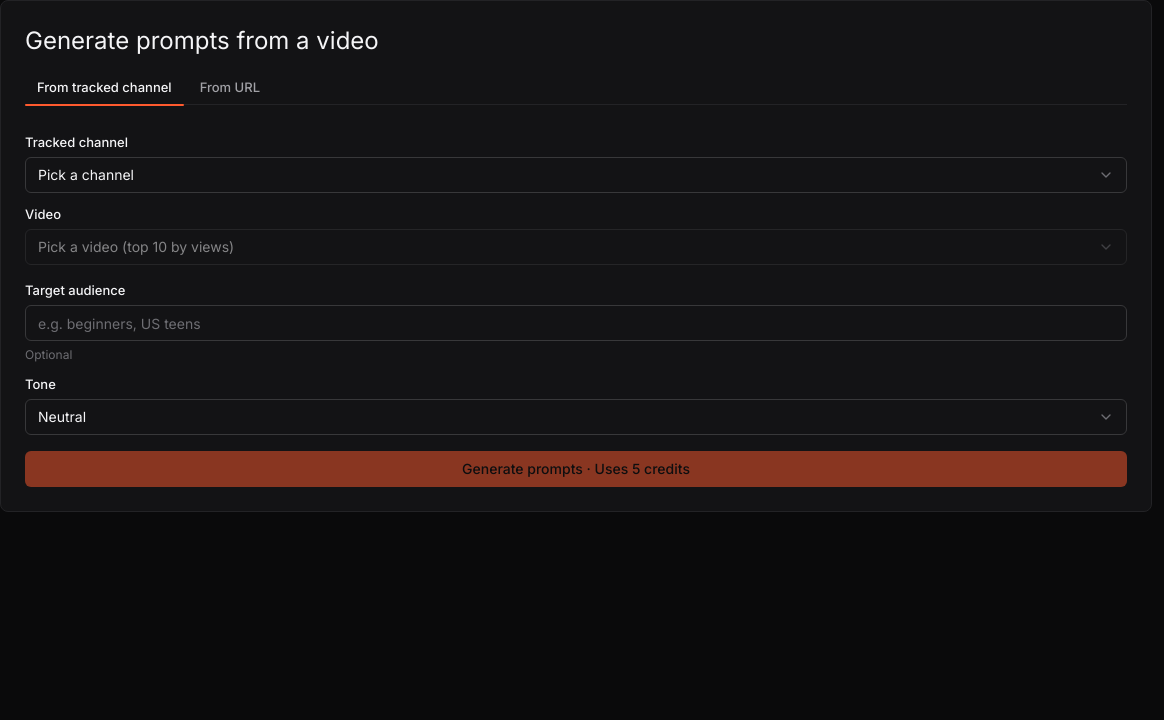
Test: GeneratorForm › 'Generate another' returns to the idle form
Click the tab "From URL" at (230, 86), box left=188, top=68, right=272, bottom=104
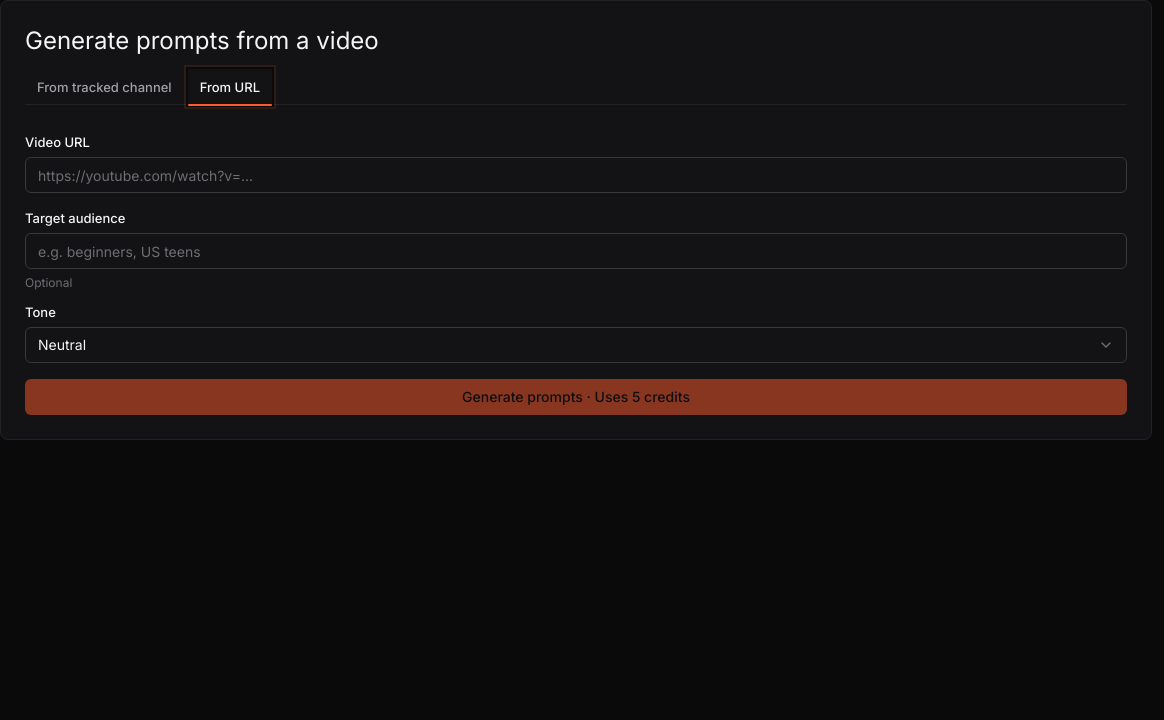
Type "https://youtube.com/watch?v=abc123" into the field labelled "Video URL" at (576, 175), box left=25, top=157, right=1127, bottom=193
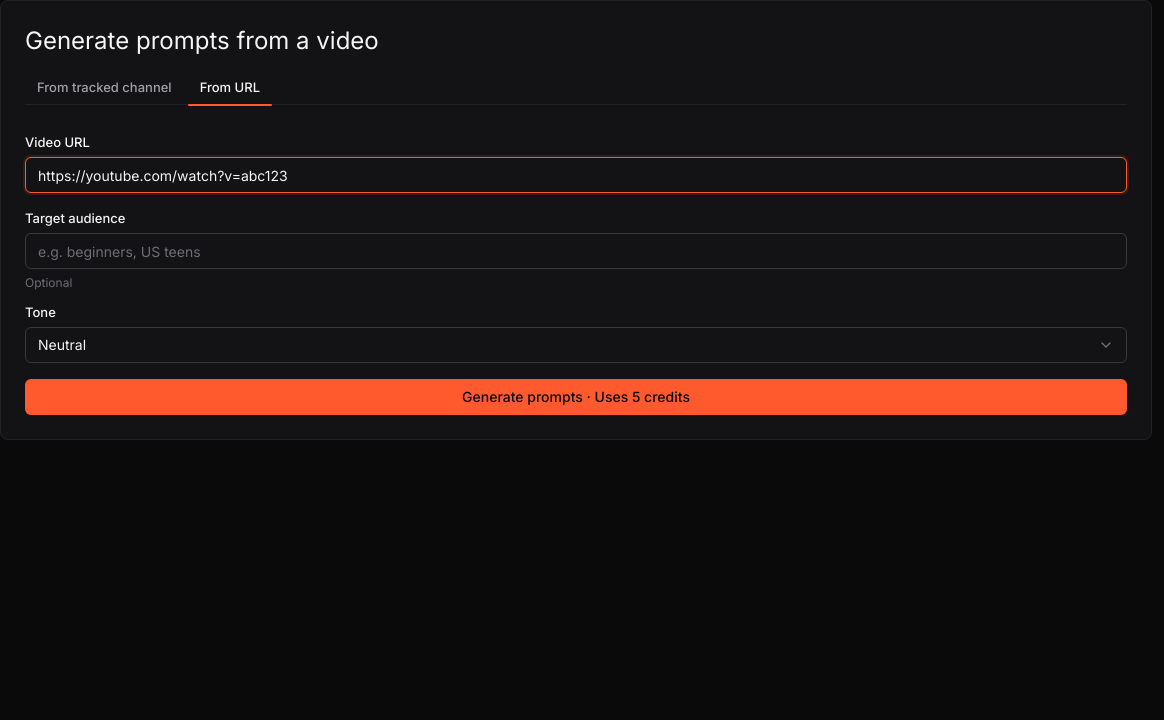
Click the button "Generate prompts · Uses 5 credits" at (576, 397), box left=25, top=379, right=1127, bottom=415
(page scrolled)
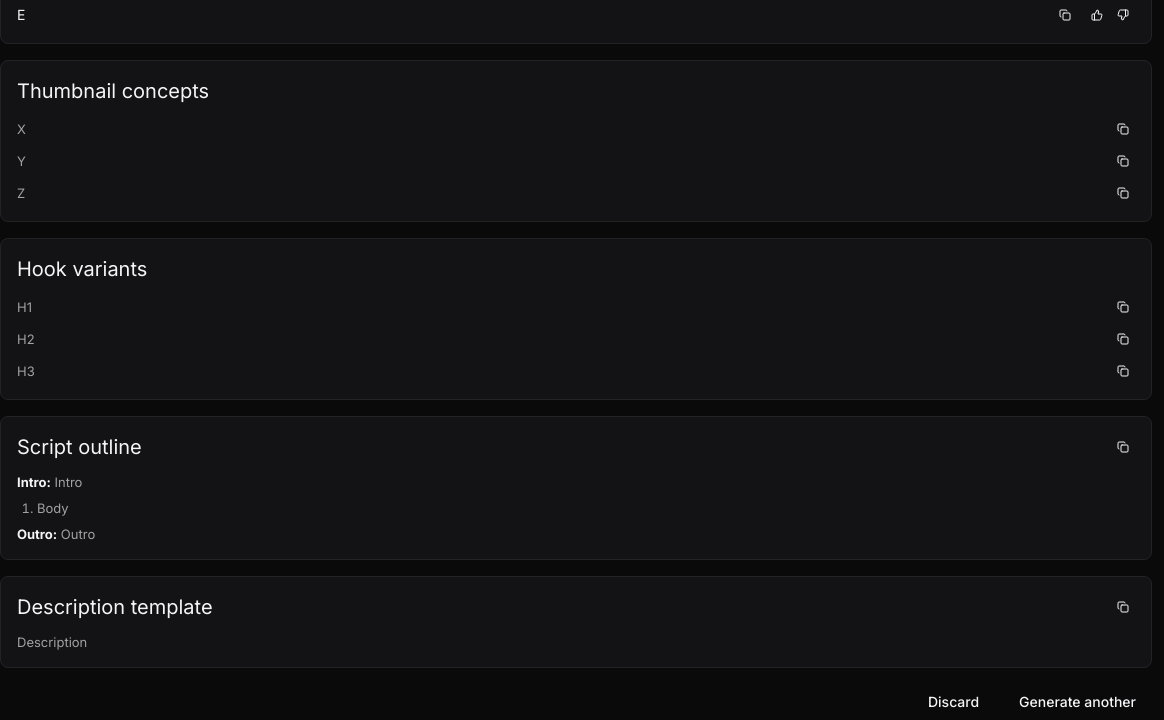
Click the button "Generate another" at (1078, 702), box left=1003, top=684, right=1152, bottom=719
(page scrolled)
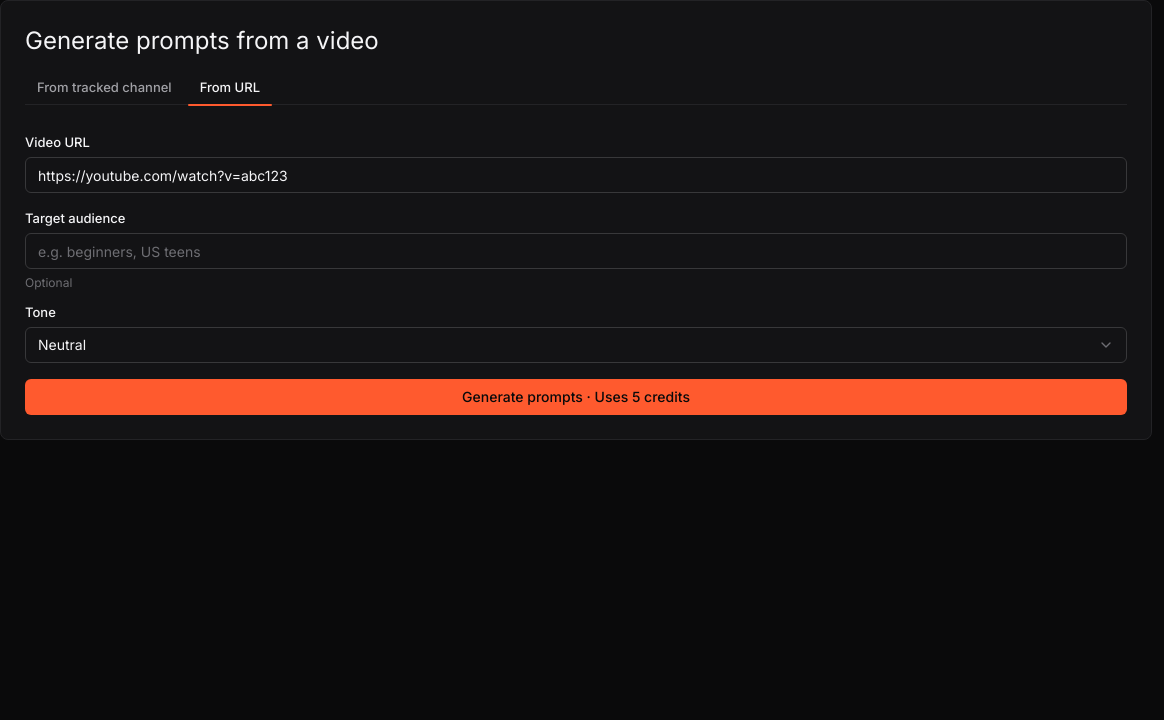
Check: the button "Generate prompts · Uses 5 credits" is shown, box left=25, top=379, right=1127, bottom=415
